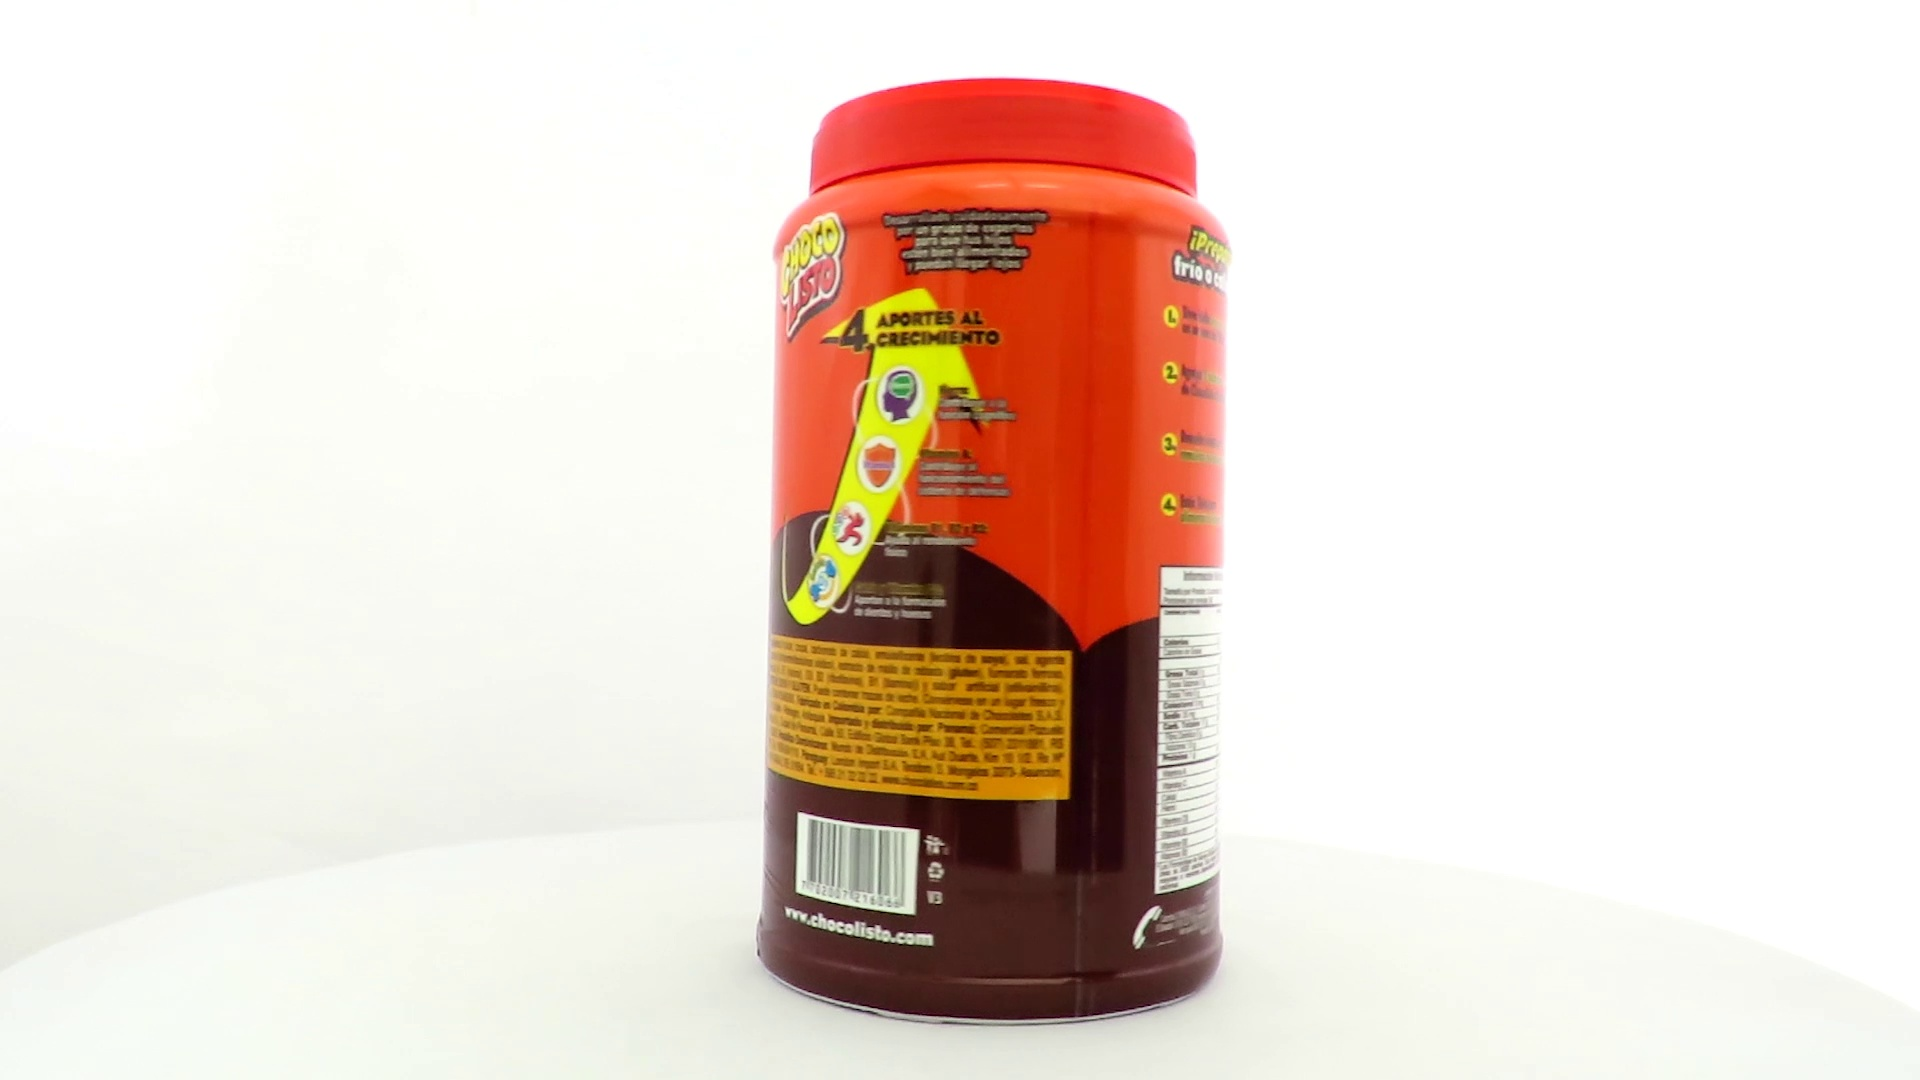COL0170103TRR00100: (764, 73, 1236, 957)
